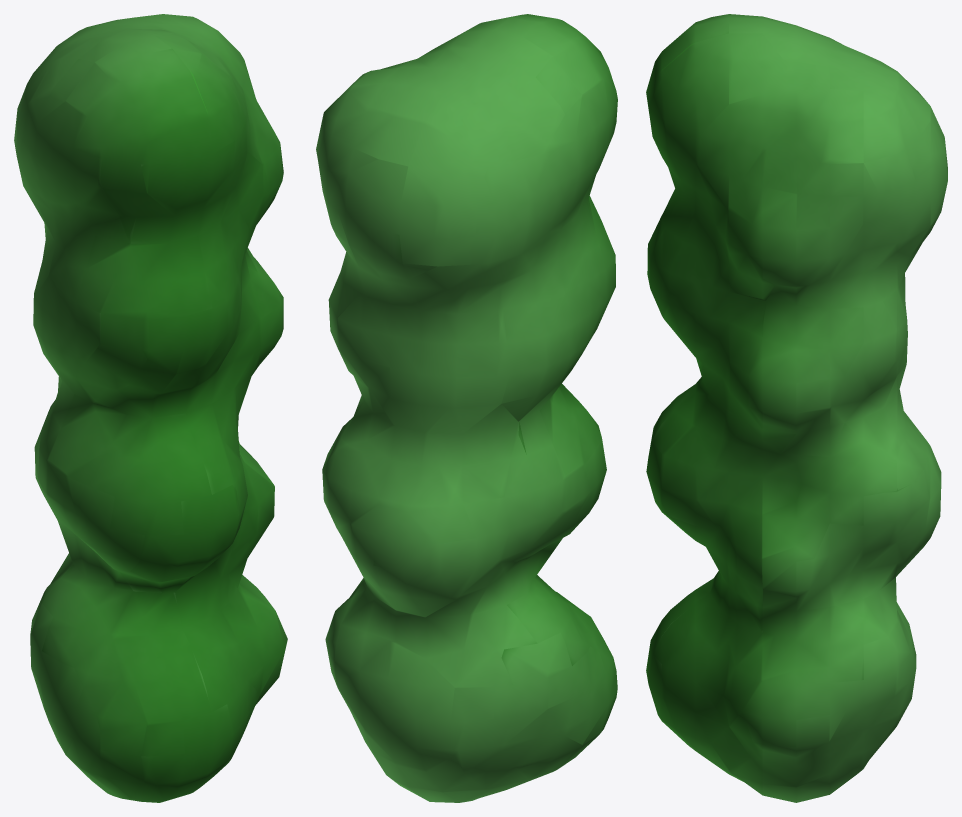
Rendered from Mod_Trees.fbx.
The picture shows the model from 3 angles, left to right: view 1: azimuth 30°, elevation 25°; view 2: azimuth 150°, elevation 25°; view 3: azimuth 270°, elevation 25°; orthographic projection. The views are drawn at different scales.
Parts seen in each view (by area): view 1: Mod_trees; view 2: Mod_trees; view 3: Mod_trees.
Boxes of the visible parts, bbox=[...] form: Mod_trees: bbox=[14, 14, 287, 802]; Mod_trees: bbox=[316, 14, 617, 802]; Mod_trees: bbox=[646, 14, 947, 802].
Size of the model in its own units: 429 by 1307 by 476.
1 material, 1 textured.
